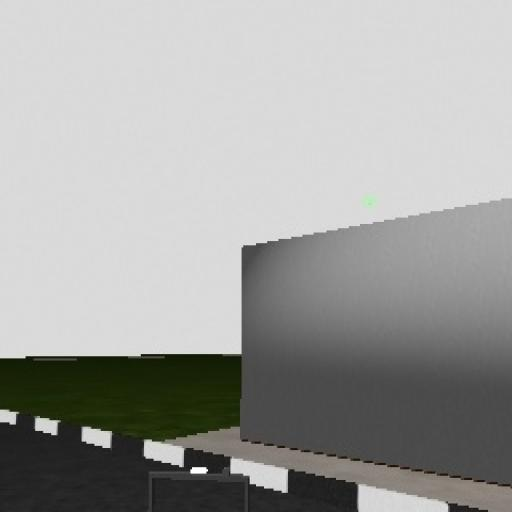huskya200: (146, 462, 258, 511)
